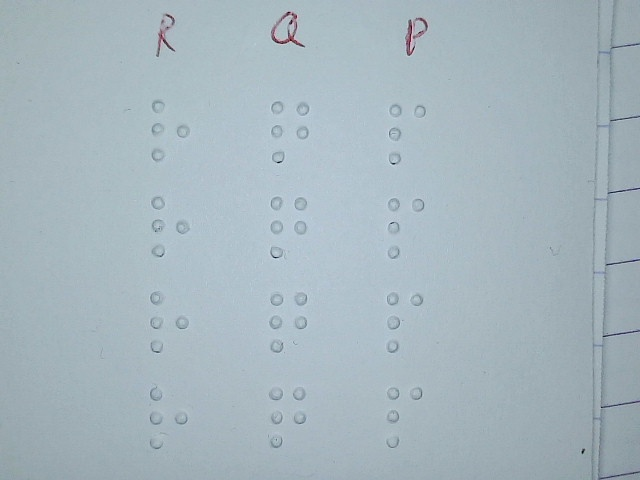P: (387, 101, 429, 165), (385, 195, 427, 259), (384, 289, 426, 353), (384, 384, 426, 448)
Q: (269, 99, 311, 163), (268, 194, 310, 258), (268, 289, 310, 353), (267, 385, 309, 449)
R: (150, 98, 192, 162), (149, 194, 191, 258), (148, 289, 190, 353), (148, 385, 190, 449)
